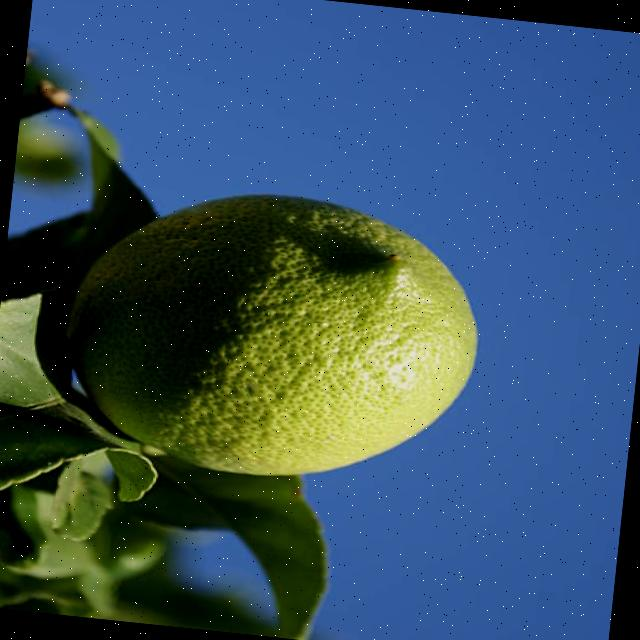Unripe: (50, 173, 492, 497)
